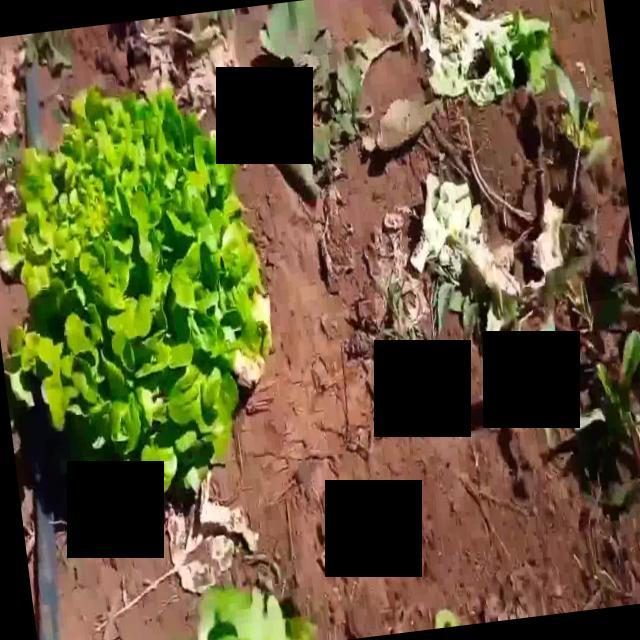Lettuce: (0, 91, 265, 498)
